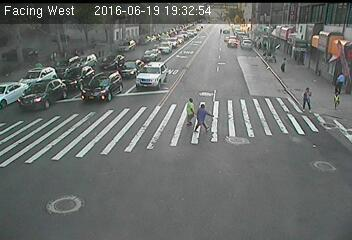neg: (43, 160, 82, 212), (229, 126, 264, 171), (92, 64, 125, 108), (41, 39, 73, 81), (212, 36, 237, 69), (26, 115, 50, 146), (183, 174, 206, 205), (256, 85, 273, 108), (113, 168, 129, 190), (179, 47, 194, 67), (284, 156, 299, 176)
pos: (298, 85, 321, 115), (193, 100, 215, 129), (177, 93, 198, 121), (333, 68, 351, 93), (330, 90, 345, 110), (278, 54, 291, 71)
